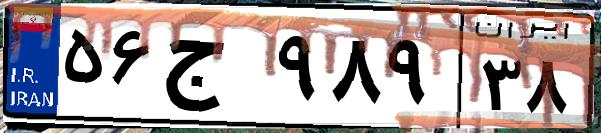3: (475, 38, 525, 113)
5: (57, 26, 110, 100)
6: (110, 28, 158, 98)
8: (330, 28, 385, 110), (525, 38, 570, 115)
9: (270, 28, 330, 110), (385, 28, 445, 110)
ج: (158, 20, 270, 120)
